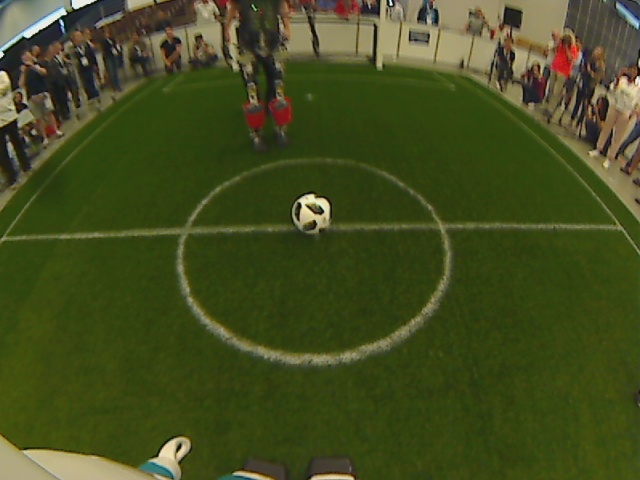ball: (288, 191, 338, 239)
